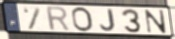3: (121, 8, 142, 33)
7: (23, 5, 43, 31)
J: (99, 8, 116, 32)
N: (144, 9, 168, 34)
O: (71, 6, 95, 33)
R: (45, 5, 72, 31)
